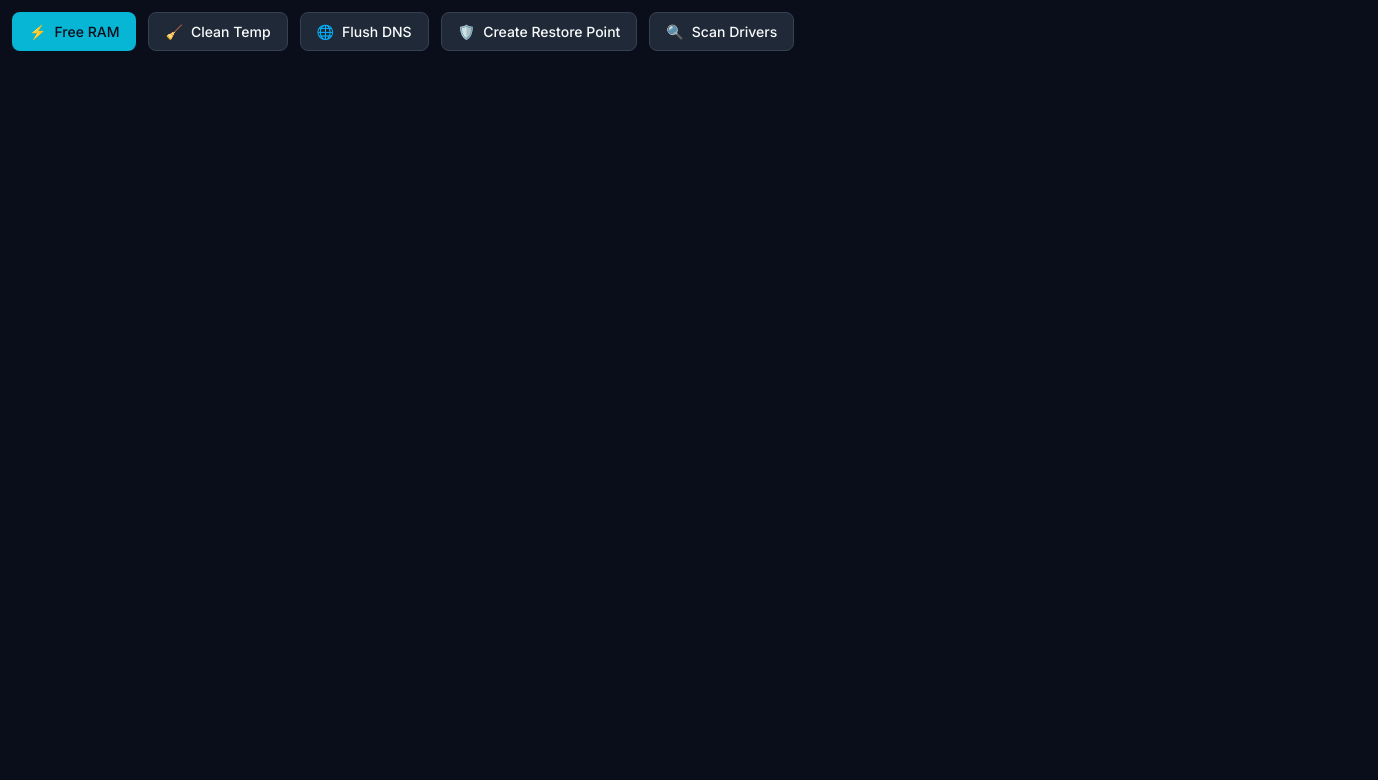
Test case: QuickFixBar (Fase 3.1-3.5) › Scan Drivers reports the real scan outcome
Step 1. Click the button with test id "quickfix-scan-drivers" → (722, 32), box [649,12,794,51]
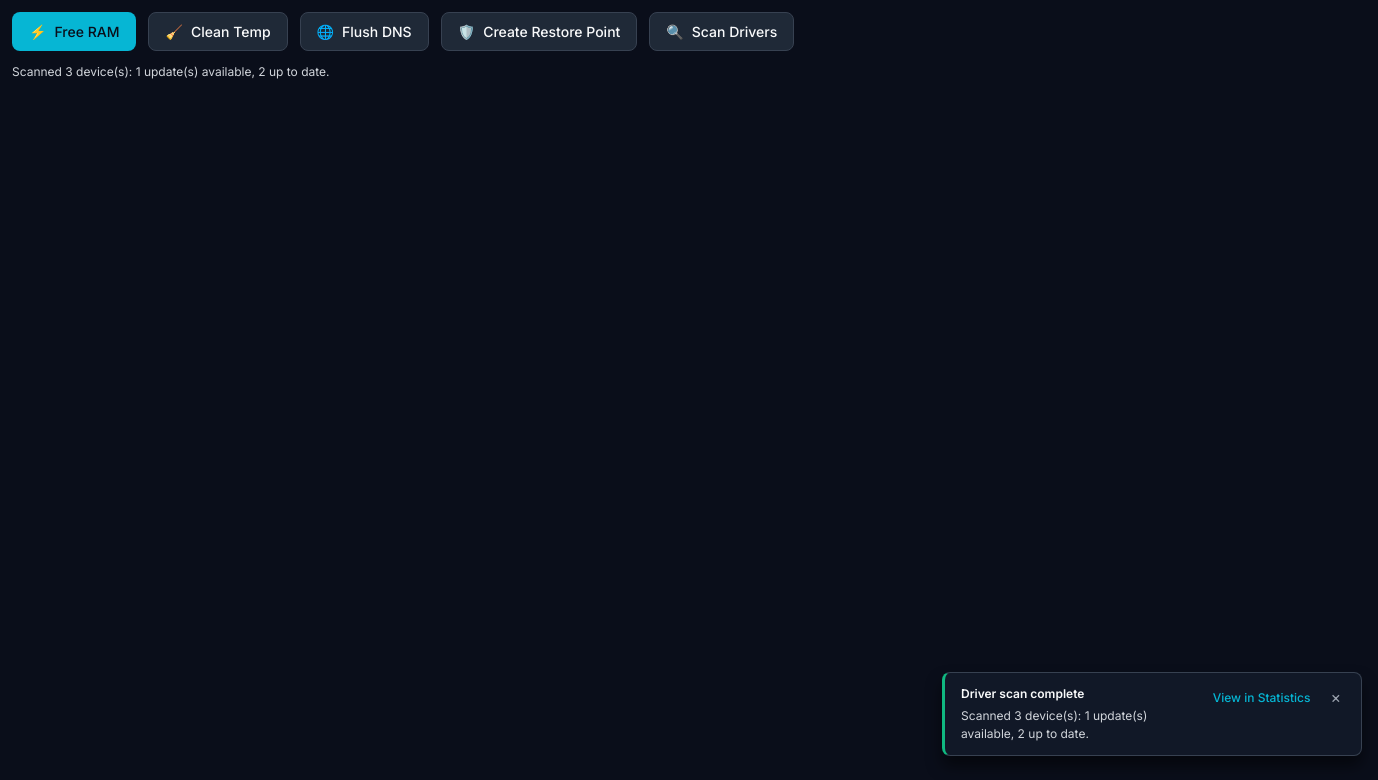
expect the element with test id "toast" is shown: met, box [942,672,1362,756]
expect the text "Scanned 3 device(s): 1 update(s) available, 2 up to date." is shown: met, box [961,708,1147,741]
